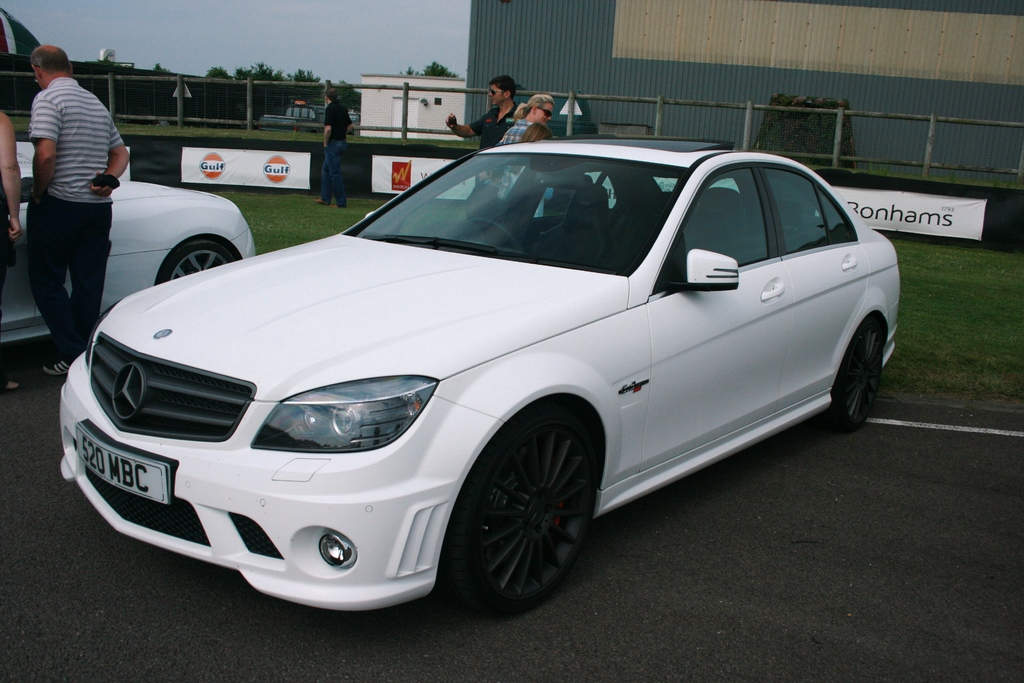Car: (60, 137, 891, 614), (0, 146, 255, 347)
